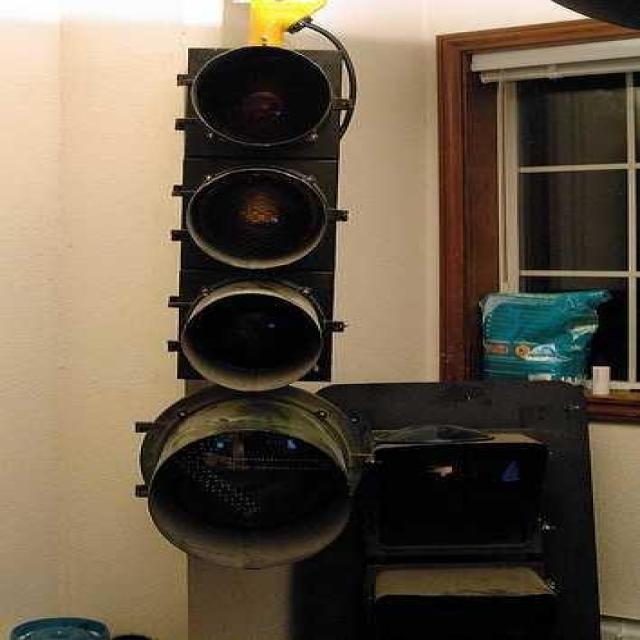Traffic Light -Off-: (145, 41, 347, 626), (137, 198, 346, 638)
